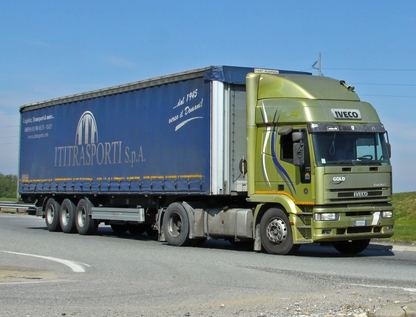truck: (13, 66, 391, 262)
